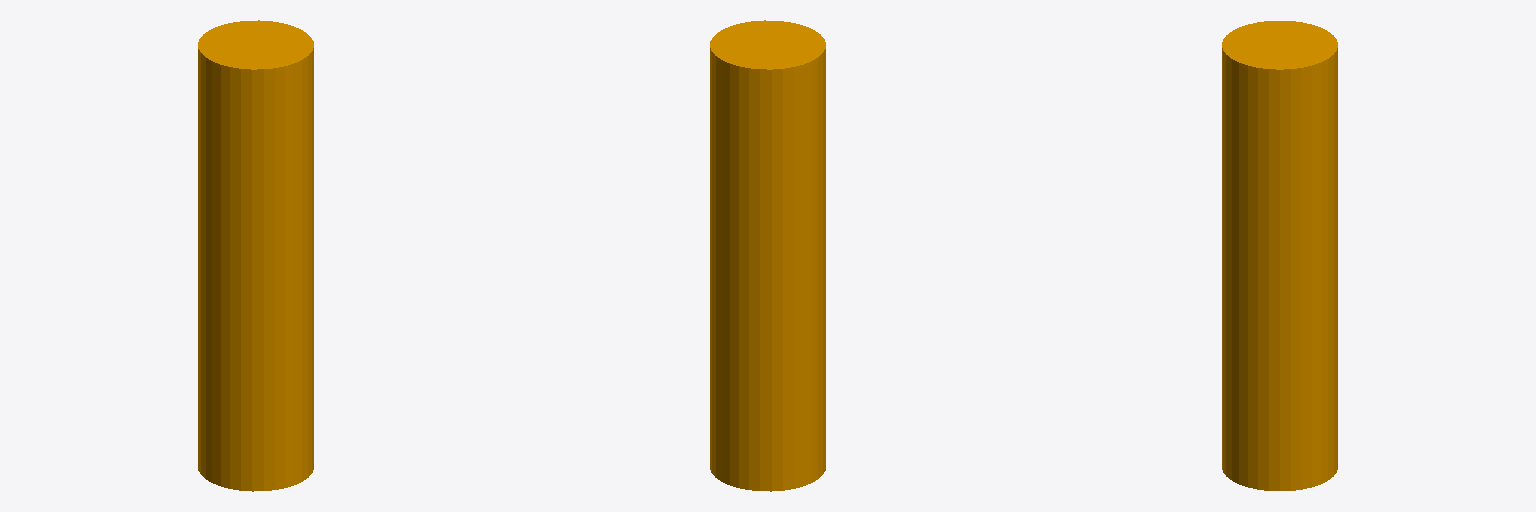
URDF robot description (cylinder_08):
<robot name="cylinder_08">
  <link name="base_link">
    <inertial>
      <origin xyz="0.0 0.0 0.0" rpy="0 0 0" />
      <mass value="0.6"/>
      <inertia ixx="0.001" ixy="0.0" ixz="0.0"
	       iyy="0.001" iyz="0.0"
	       izz="0.001" />
    </inertial>
    <visual>
      <origin xyz="0 0 0" rpy="0 0 0" />
      <geometry>
	<cylinder radius="0.01" length="0.08"/>
      </geometry>
    </visual>
    <collision>
      <origin xyz="0 0 0" rpy="0 0 0" />
      <geometry>
	<box size="0.08 0.01 0.01"/>
      </geometry>
    </collision>
  </link>
</robot>

--- Facts derived from the render (not from the file) ---
The picture shows the robot from 3 angles, left to right: view 1: azimuth 30°, elevation 25°; view 2: azimuth 150°, elevation 25°; view 3: azimuth 270°, elevation 25°; orthographic projection.
Robot: cylinder_08 — 1 links, 0 joints (none); root link base_link; default pose: all joints at 0.
Visible links, largest first — view 1: base_link; view 2: base_link; view 3: base_link.
Link boxes in pixels (box(x1,y1,x2,y2)): base_link: box(198, 20, 313, 491); base_link: box(710, 20, 825, 491); base_link: box(1222, 21, 1337, 490).
Size in the robot's own frame: 0.02 by 0.02 by 0.08 metres.
Geometry: primitives only (box / cylinder / sphere), no mesh files.